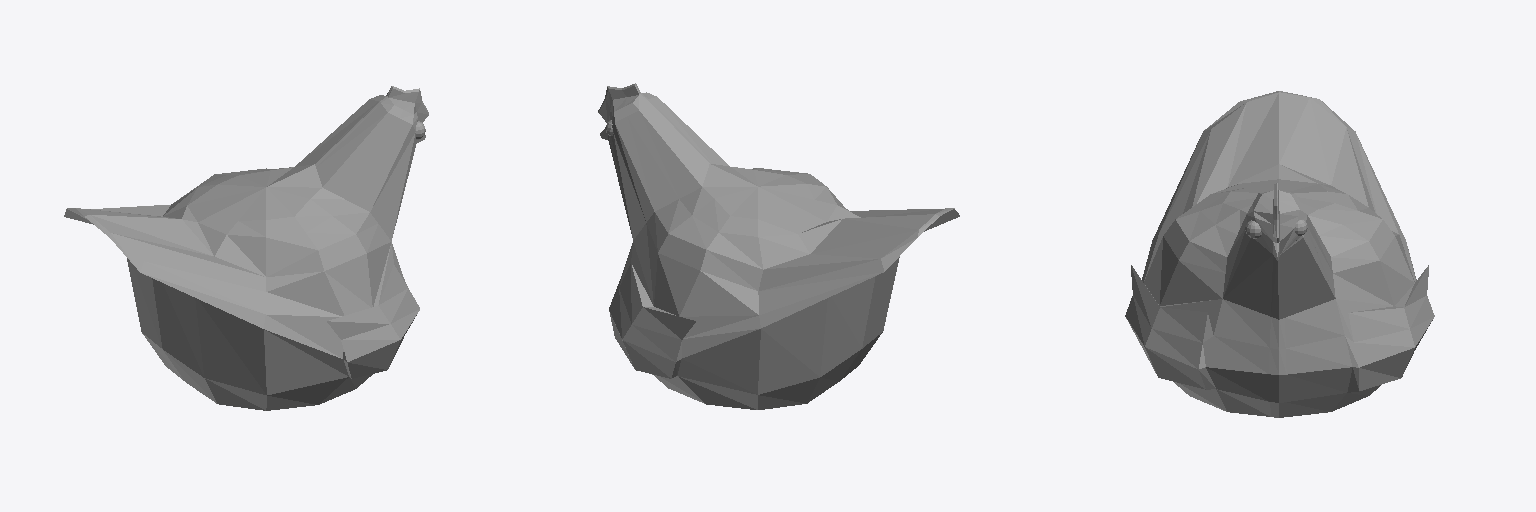
Rendered from chicken.obj.
3 views of the same model, side by side, from view 1: azimuth 30°, elevation 25°; view 2: azimuth 150°, elevation 25°; view 3: azimuth 270°, elevation 25° (orthographic).
Visible parts, largest first — view 1: Sphere; view 2: Sphere; view 3: Sphere.
Part boxes in pixels (x1,y1,x2,y2): Sphere: (64, 86, 428, 410); Sphere: (598, 83, 959, 409); Sphere: (1125, 91, 1434, 417).
Bounding box in the file's own units: 2.7 × 2.09 × 2.11.